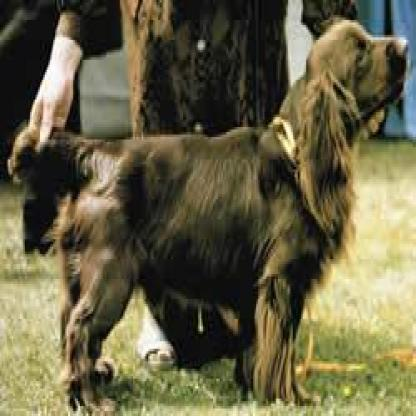Sussex_spaniel: (10, 12, 411, 411)
